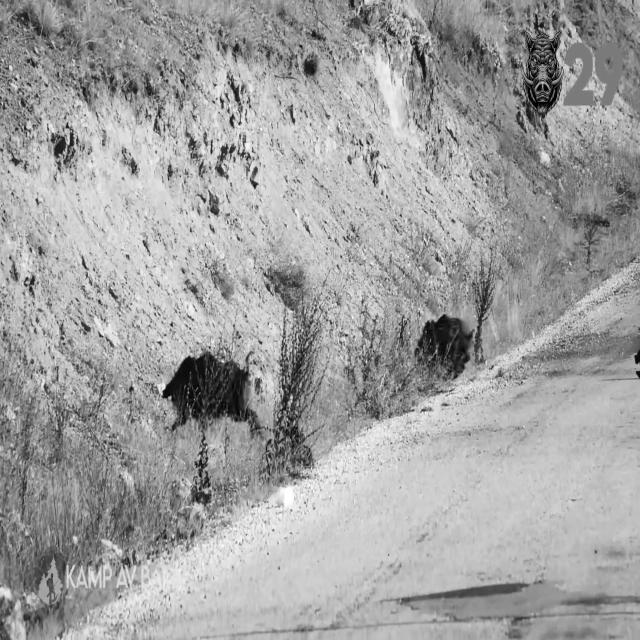boar: (162, 352, 259, 429), (524, 29, 564, 117), (416, 314, 472, 375)
